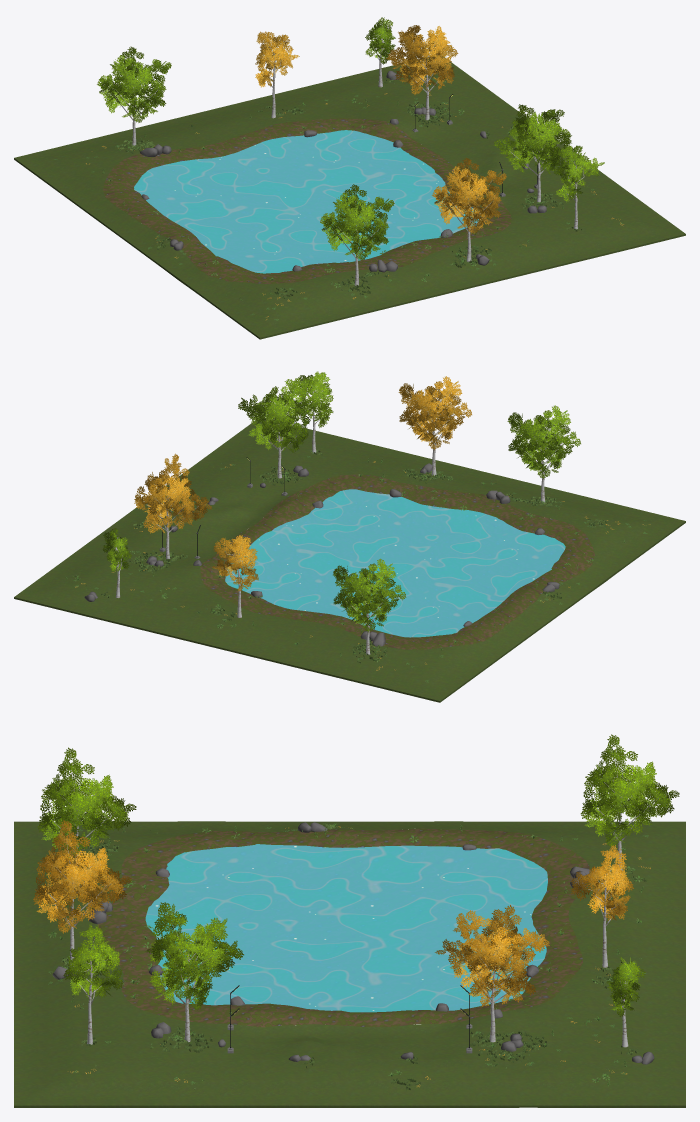
Rendered from landscape.glb.
3 views of the same model, one above another, from view 1: azimuth 30°, elevation 25°; view 2: azimuth 150°, elevation 25°; view 3: azimuth 270°, elevation 25° (orthographic). The views are drawn at different scales.
Visible parts, largest first — view 1: Plane.043, Plane.028, water.002, stylizedTree03 (×3), stylizedTree03.046 (×2), stylizedTree02.003, stylizedTree02, stylizedTree01; view 2: Plane.043, Plane.028, water.002, stylizedTree03 (×3), stylizedTree03.046 (×2), stylizedTree02.003, stylizedTree02, stylizedTree01; view 3: Plane.043, Plane.028, water.002, stylizedTree03 (×3), stylizedTree03.046 (×2), stylizedTree02, stylizedTree02.003, stylizedTree01.
Boxes of the visible parts, left/top/right/bottom form: Plane.043: left=14, top=56, right=685, bottom=339; Plane.028: left=103, top=118, right=511, bottom=283; water.002: left=134, top=130, right=480, bottom=273; stylizedTree03 (×3): left=97, top=46, right=571, bottom=285; stylizedTree03.046 (×2): left=386, top=25, right=506, bottom=261; stylizedTree02.003: left=255, top=31, right=299, bottom=118; stylizedTree02: left=555, top=145, right=604, bottom=229; stylizedTree01: left=365, top=17, right=395, bottom=87; Plane.043: left=14, top=418, right=685, bottom=702; Plane.028: left=200, top=474, right=594, bottom=649; water.002: left=225, top=489, right=565, bottom=637; stylizedTree03 (×3): left=238, top=379, right=580, bottom=654; stylizedTree03.046 (×2): left=134, top=376, right=471, bottom=559; stylizedTree02.003: left=212, top=535, right=258, bottom=617; stylizedTree02: left=289, top=371, right=333, bottom=452; stylizedTree01: left=102, top=528, right=131, bottom=597; Plane.043: left=14, top=821, right=685, bottom=1107; Plane.028: left=97, top=828, right=590, bottom=1027; water.002: left=145, top=844, right=547, bottom=1012; stylizedTree03 (×3): left=37, top=734, right=679, bottom=1042; stylizedTree03.046 (×2): left=33, top=820, right=549, bottom=1042; stylizedTree02: left=63, top=923, right=122, bottom=1044; stylizedTree02.003: left=571, top=845, right=633, bottom=967; stylizedTree01: left=606, top=957, right=645, bottom=1047.
Size of what is drawn, in the model's own units: 128 by 31.8 by 128.
Materials: 15 (14 with a texture image).
